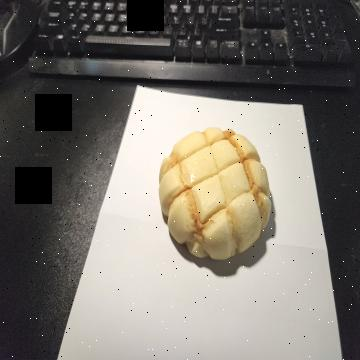melon_bread: (158, 127, 274, 261)
